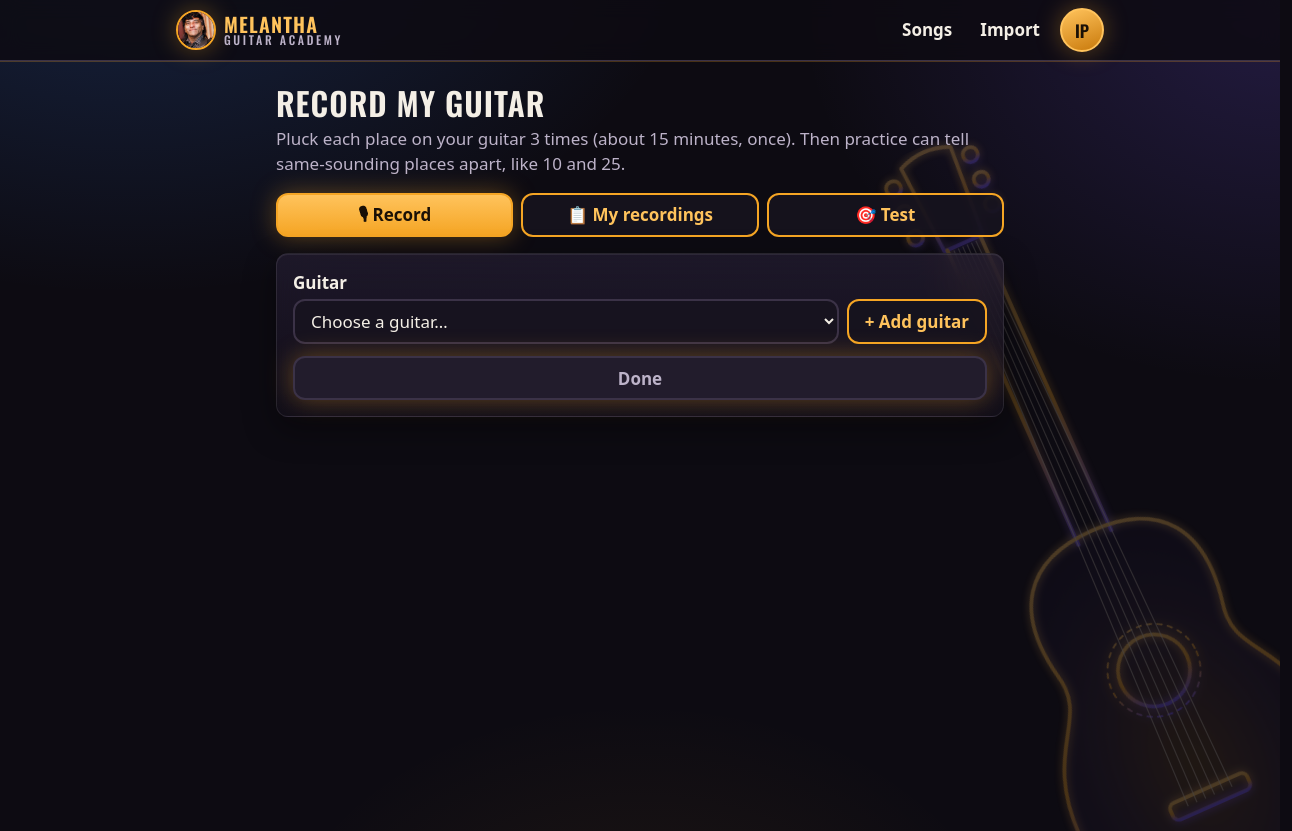
Test: older recordings get their fingerprints (record my guitar) › reads only the recordings without one, and saves each fingerprint as soon as it is made
Click the button "📋 My recordings": click(640, 215) [521,193,759,237]
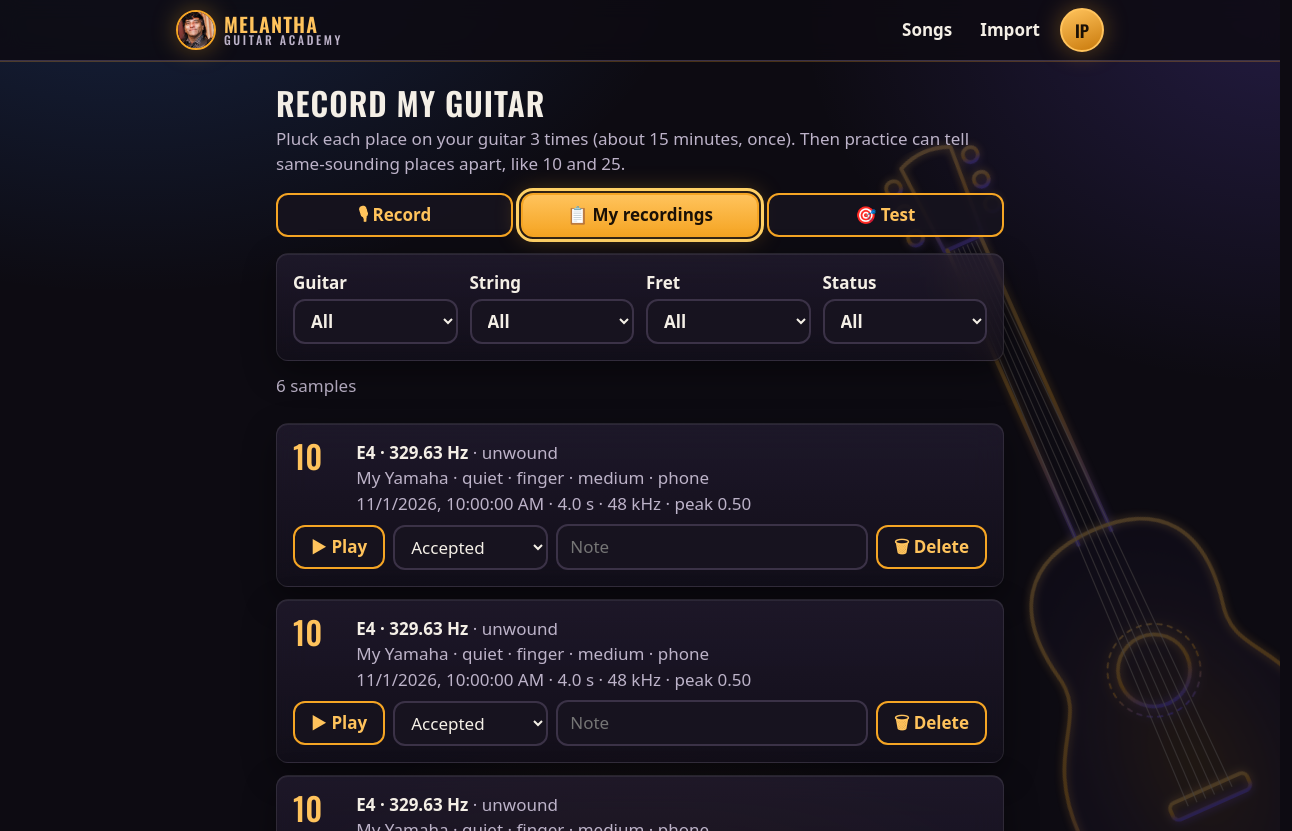
Select "My Yamaha" in the dropdown labelled "Guitar": (375, 322) [293,299,458,344]
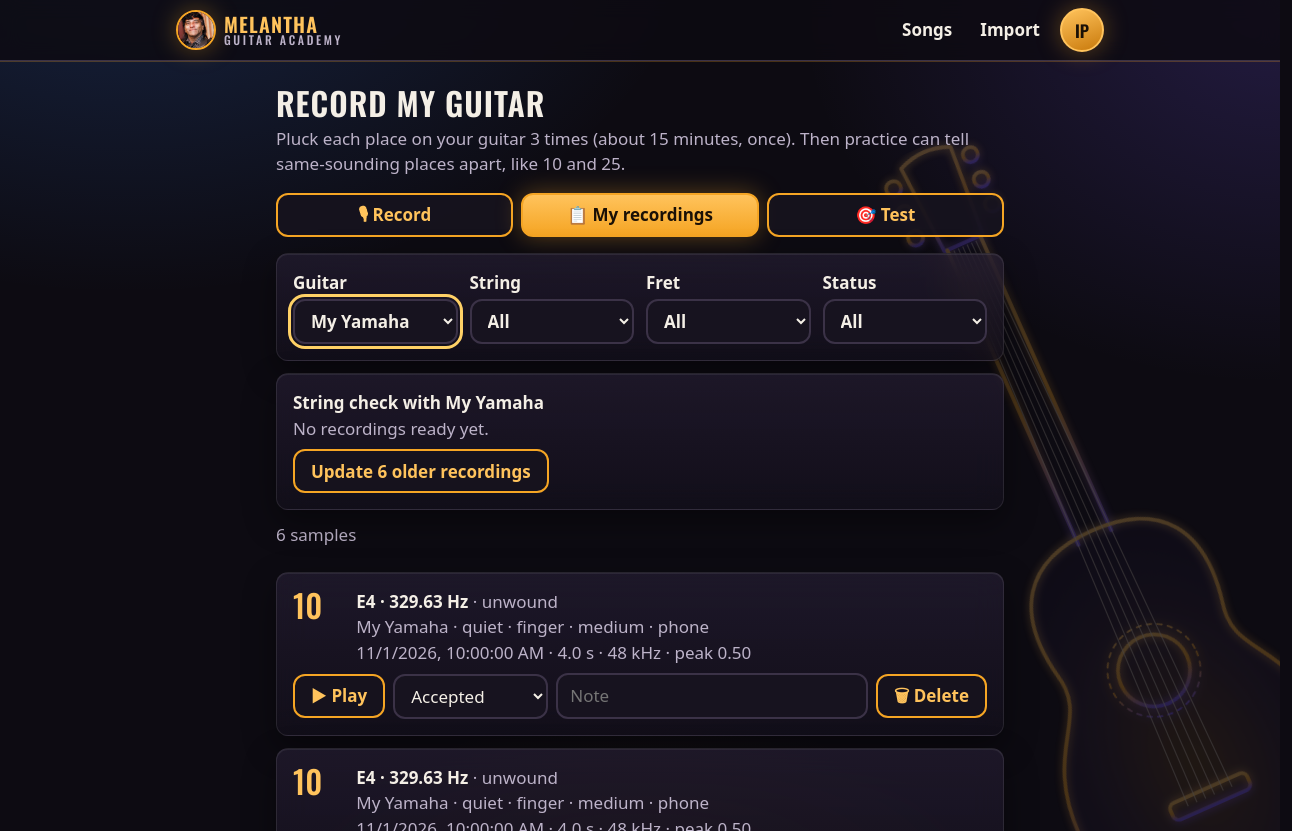
Click the button "Update 6 older recordings": click(421, 471) [293,449,549,493]
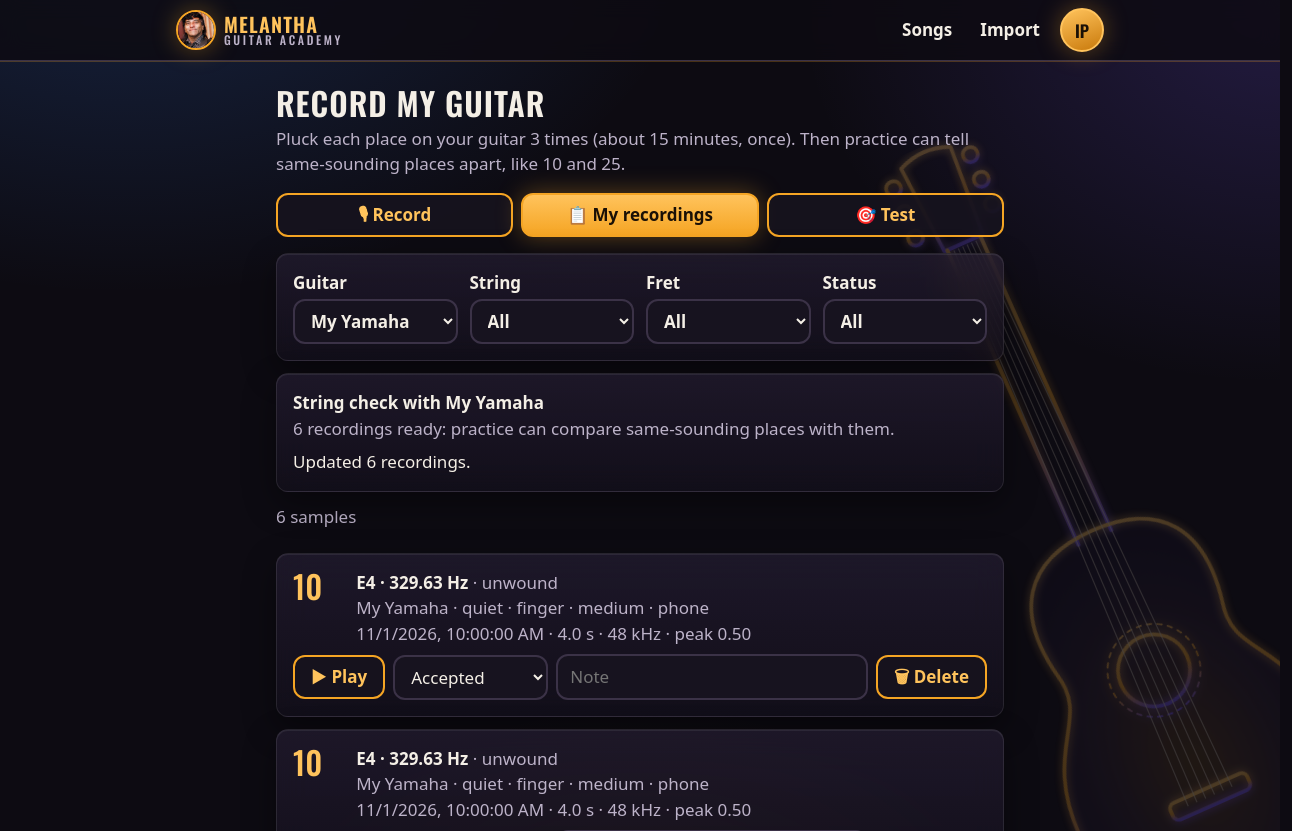
expect the message with test id "sound-match-ready" reads "Updated 6 recordings.": met, box [293,449,470,475]
expect the button "older recordings" is gone: met
